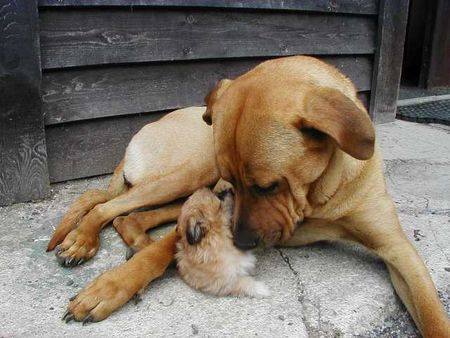other_dog_breed: (176, 186, 270, 300)
tosa_inu: (44, 54, 450, 338)
